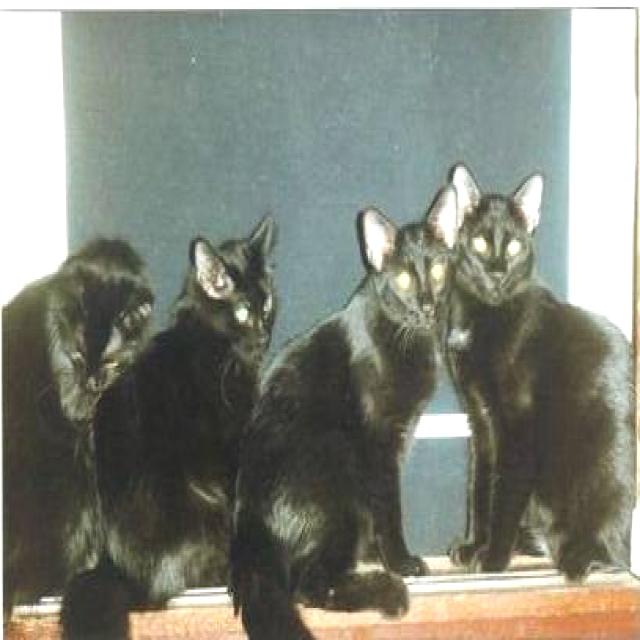Kucing: (450, 84, 605, 551), (294, 115, 447, 569), (153, 122, 272, 562), (16, 142, 139, 514)
